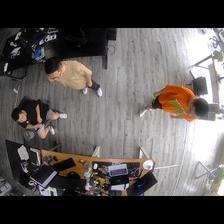normal: (137, 83, 209, 118), (43, 56, 102, 97), (13, 101, 67, 137)
